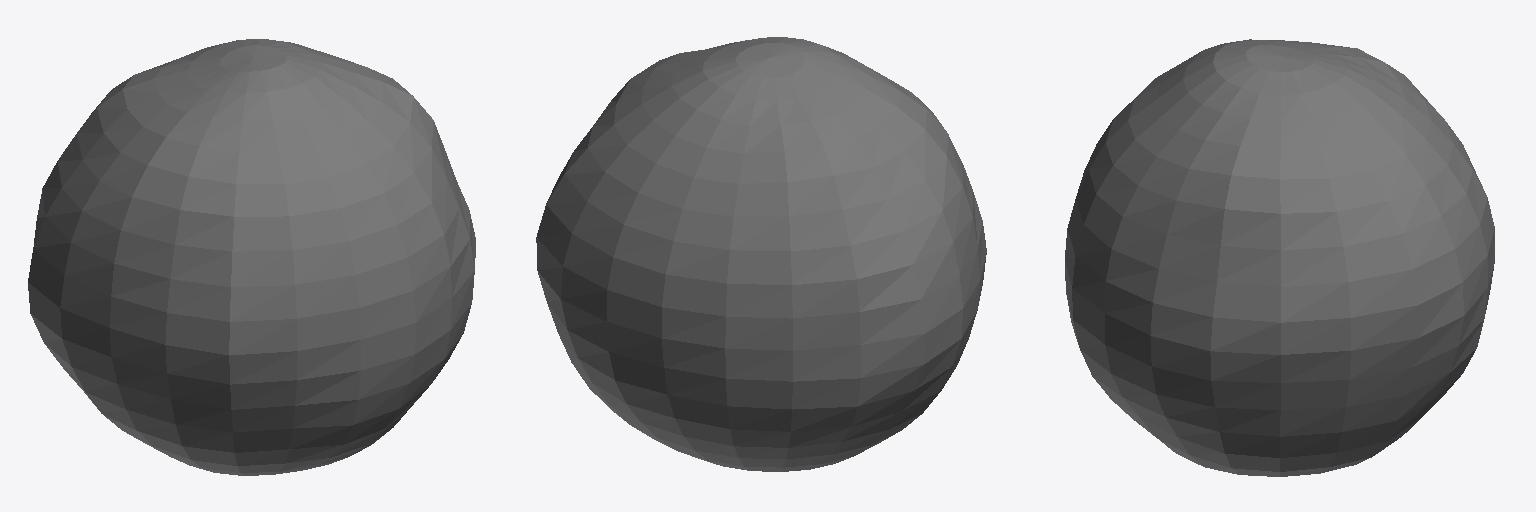
File: SlimeBall.obj
3 renders of one model, left to right at view 1: azimuth 30°, elevation 25°; view 2: azimuth 150°, elevation 25°; view 3: azimuth 270°, elevation 25°, orthographic.
Visible parts, largest first — view 1: SlimeBall:pSphere1; view 2: SlimeBall:pSphere1; view 3: SlimeBall:pSphere1.
Part boxes in pixels (bbox=[...]): SlimeBall:pSphere1: bbox=[28, 39, 475, 475]; SlimeBall:pSphere1: bbox=[536, 37, 986, 471]; SlimeBall:pSphere1: bbox=[1065, 39, 1494, 476].
Size of the model in its own units: 2.13 by 2.08 by 2.03.